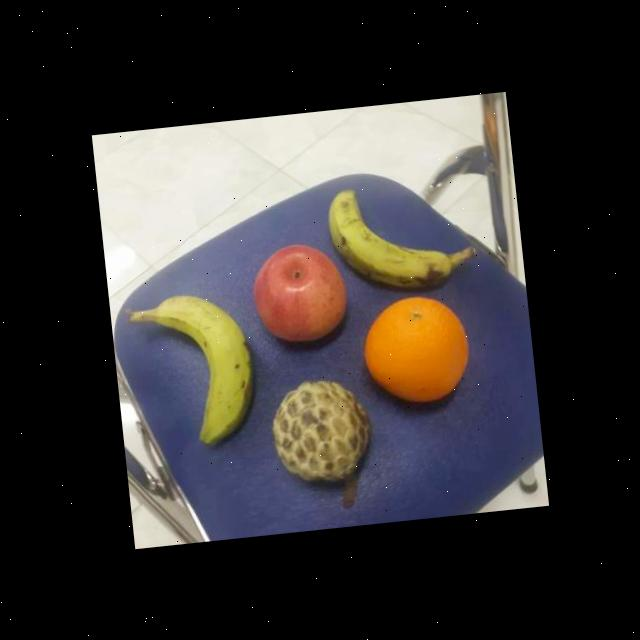Sakya fruit: (262, 372, 378, 488)
apple: (247, 238, 351, 348)
banana: (146, 286, 264, 451), (322, 174, 456, 300)
orange: (355, 285, 477, 409)
